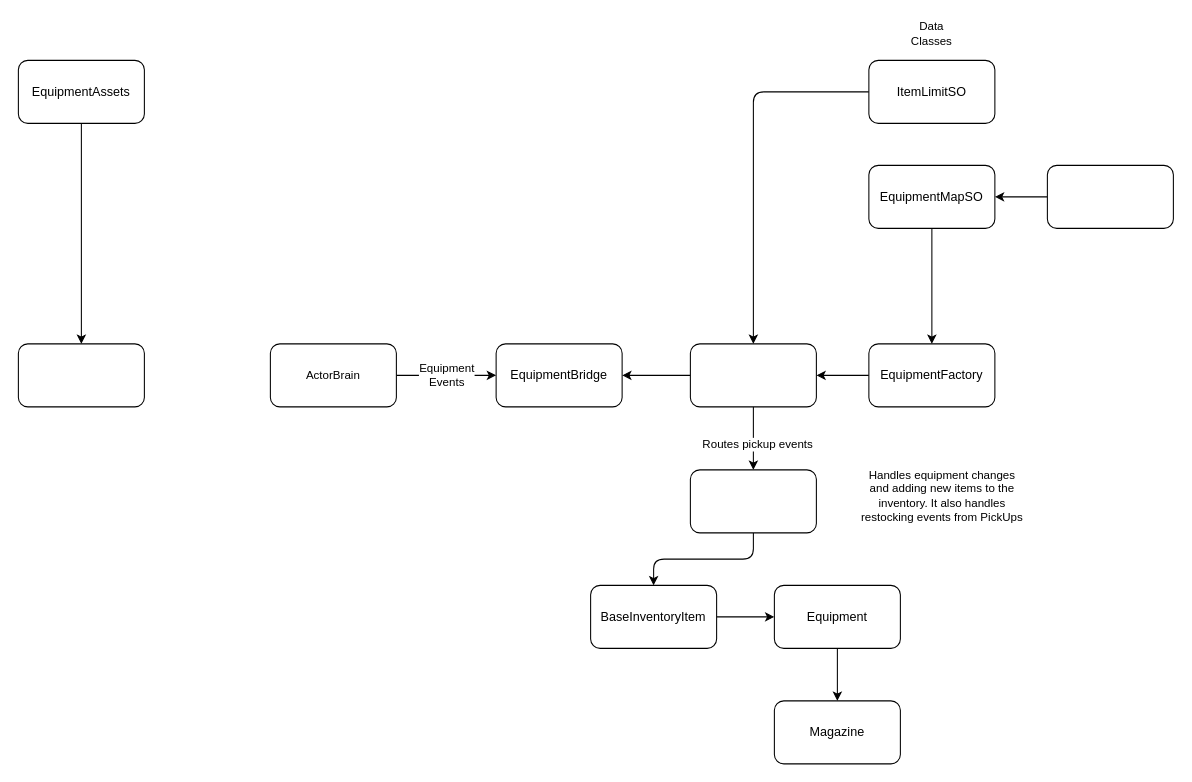
The diagram is 1192 pixels wide and 782 high, and some of its shapes have lost their labels. The shapes that lost their labels are listed below. From the top down, each one's centre as x and y in pixels, then its label:
point 1109,196: EquipmentSO
point 80,375: InventoryPresenter
point 752,375: Inventory
point 752,501: InventorySystem
